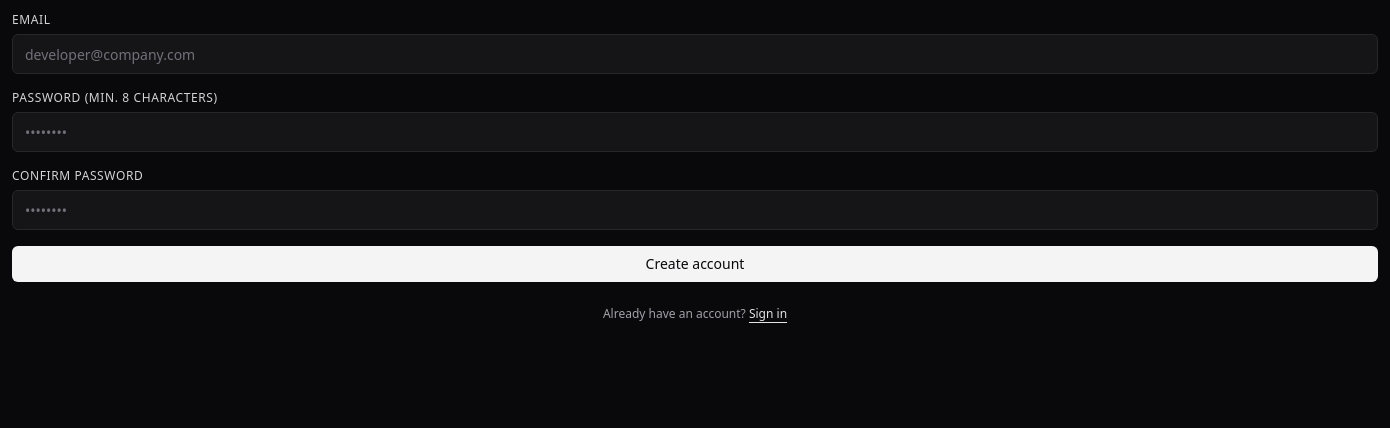
Test: Auth UI Flow › RegisterForm › enforces min 8 character password
Type "dev@test.com" into the field labelled "Email" at (695, 54), box left=12, top=34, right=1378, bottom=74
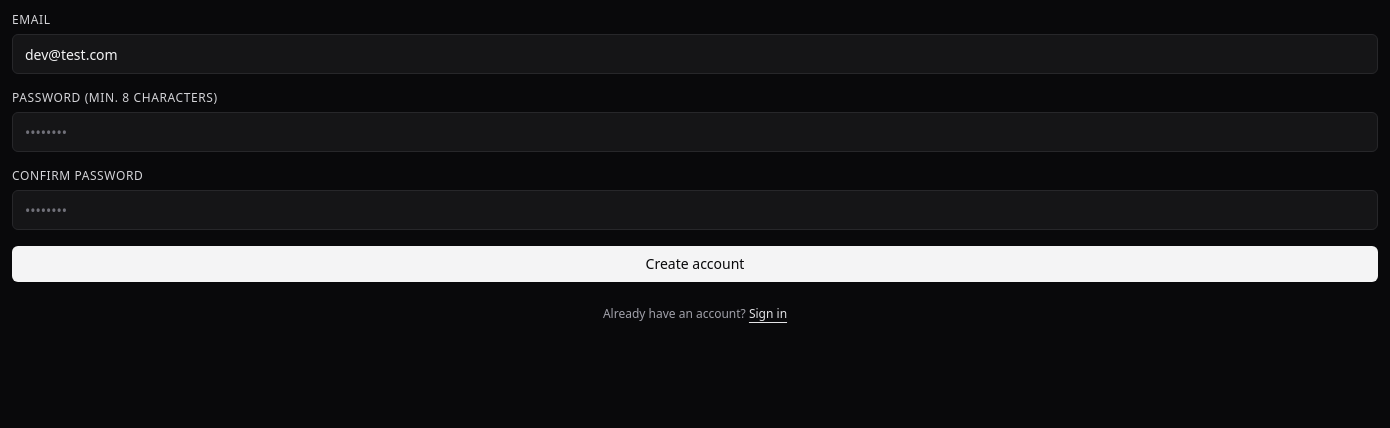
Type "short" into the password field labelled "Password (min. 8 characters)" at (695, 132), box left=12, top=112, right=1378, bottom=152
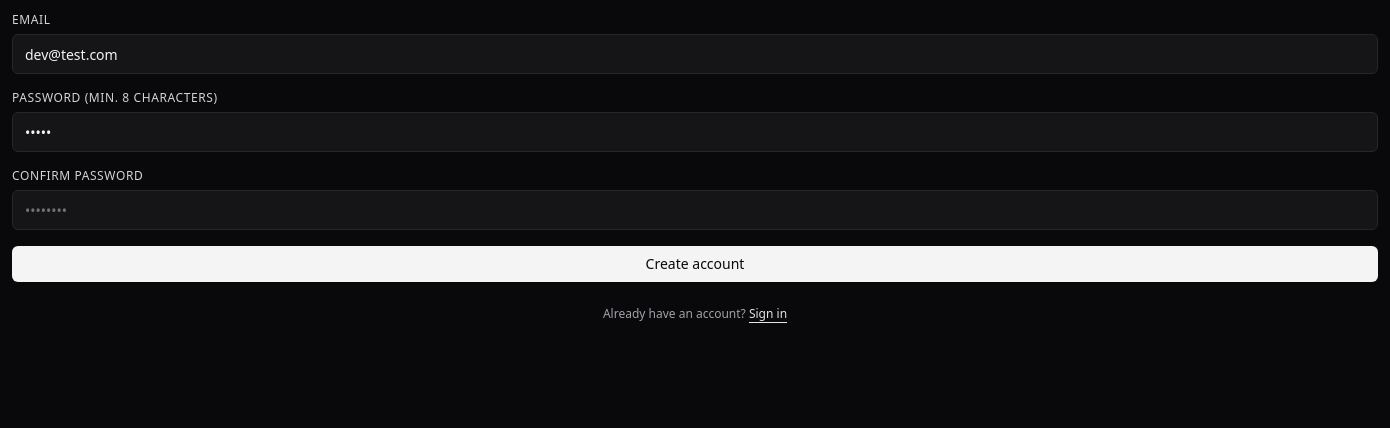
Type "short" into the password field labelled "Confirm Password" at (695, 210), box left=12, top=190, right=1378, bottom=230
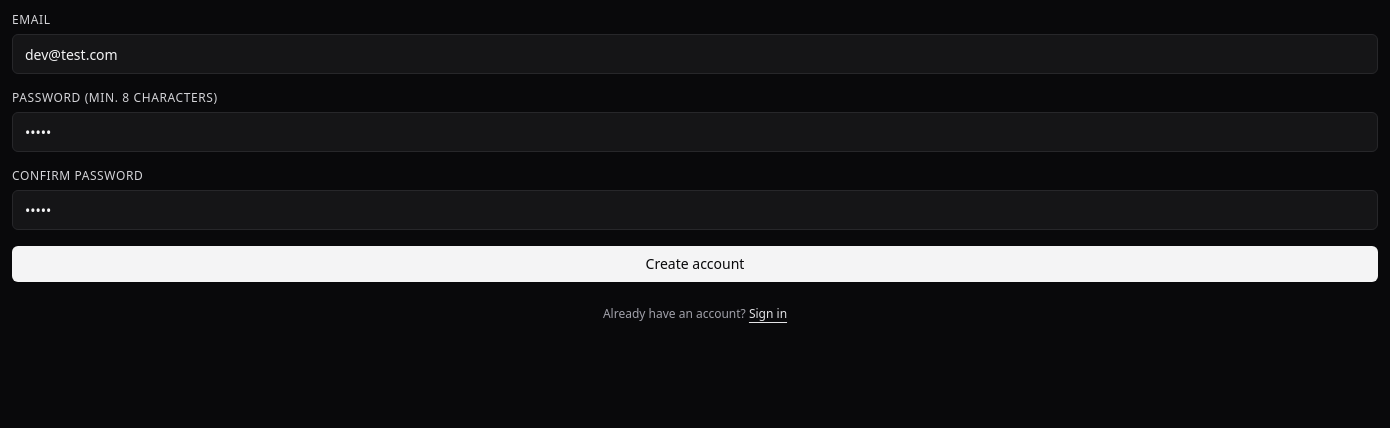
Click the button "Create account" at (695, 264), box left=12, top=246, right=1378, bottom=282
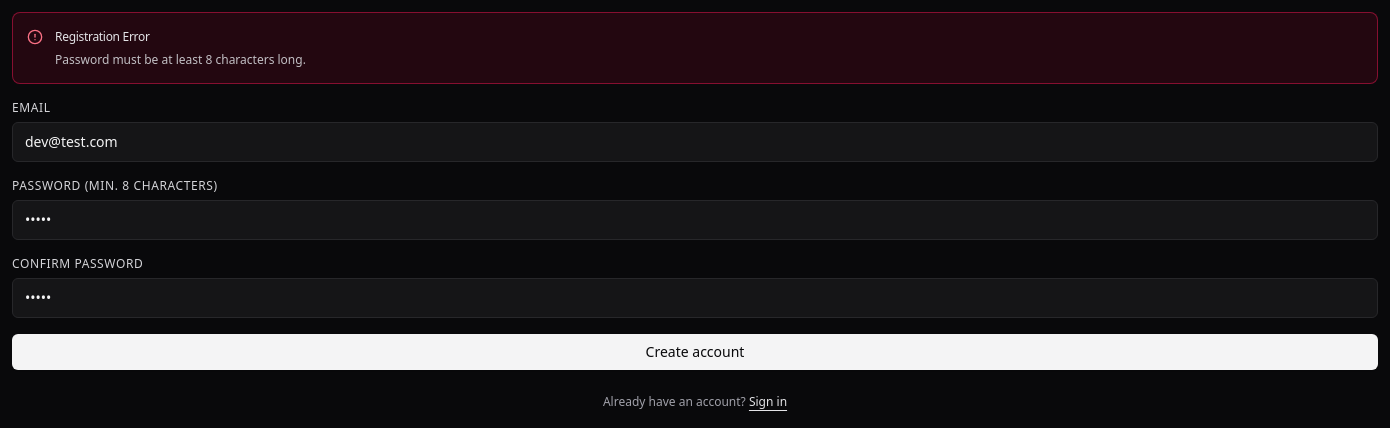
expect the text "Password must be at least 8 characters long." is shown: met, box left=55, top=50, right=306, bottom=68
